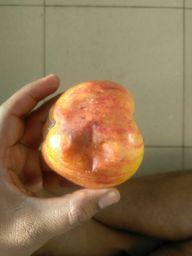Apple Semirotten: (30, 70, 174, 214)
